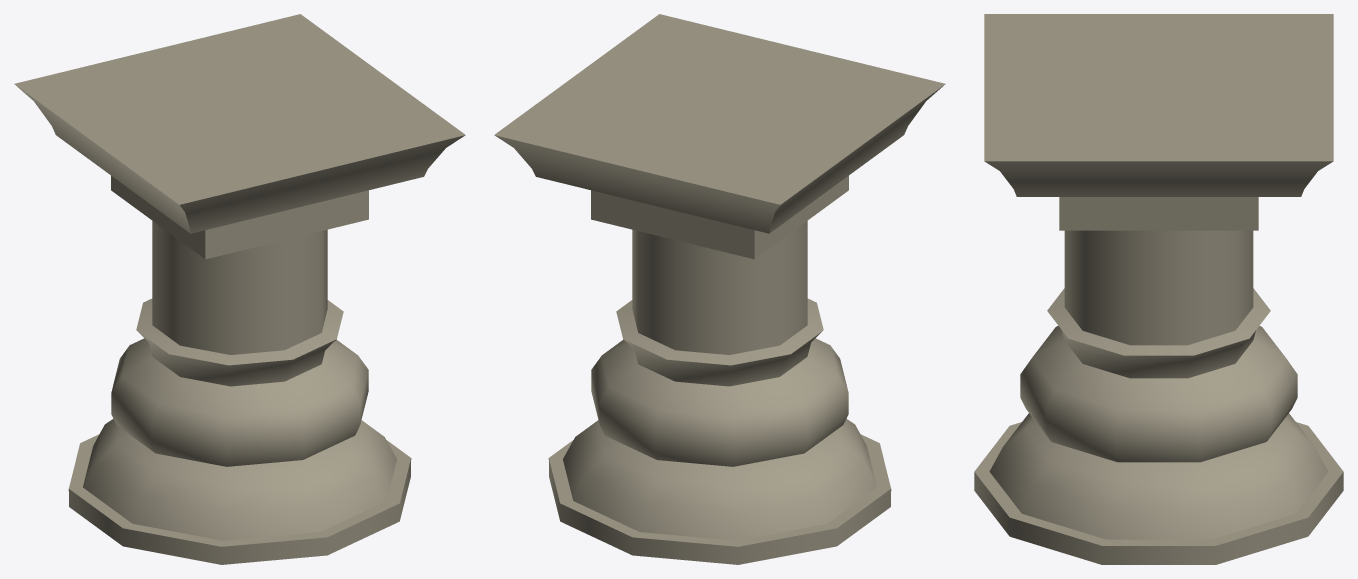
Rendered from Column Round 1.glb.
The picture shows the model from 3 angles, left to right: view 1: azimuth 30°, elevation 25°; view 2: azimuth 150°, elevation 25°; view 3: azimuth 270°, elevation 25°; orthographic projection. The views are drawn at different scales.
Parts seen in each view (by area): view 1: Column_Round1_Cylinder.060; view 2: Column_Round1_Cylinder.060; view 3: Column_Round1_Cylinder.060.
Part boxes in pixels (x1,y1,x2,y2): Column_Round1_Cylinder.060: [14, 14, 465, 564]; Column_Round1_Cylinder.060: [494, 14, 945, 564]; Column_Round1_Cylinder.060: [974, 14, 1343, 564].
Bounding box in the file's own units: 1.4 × 1.77 × 1.47.
